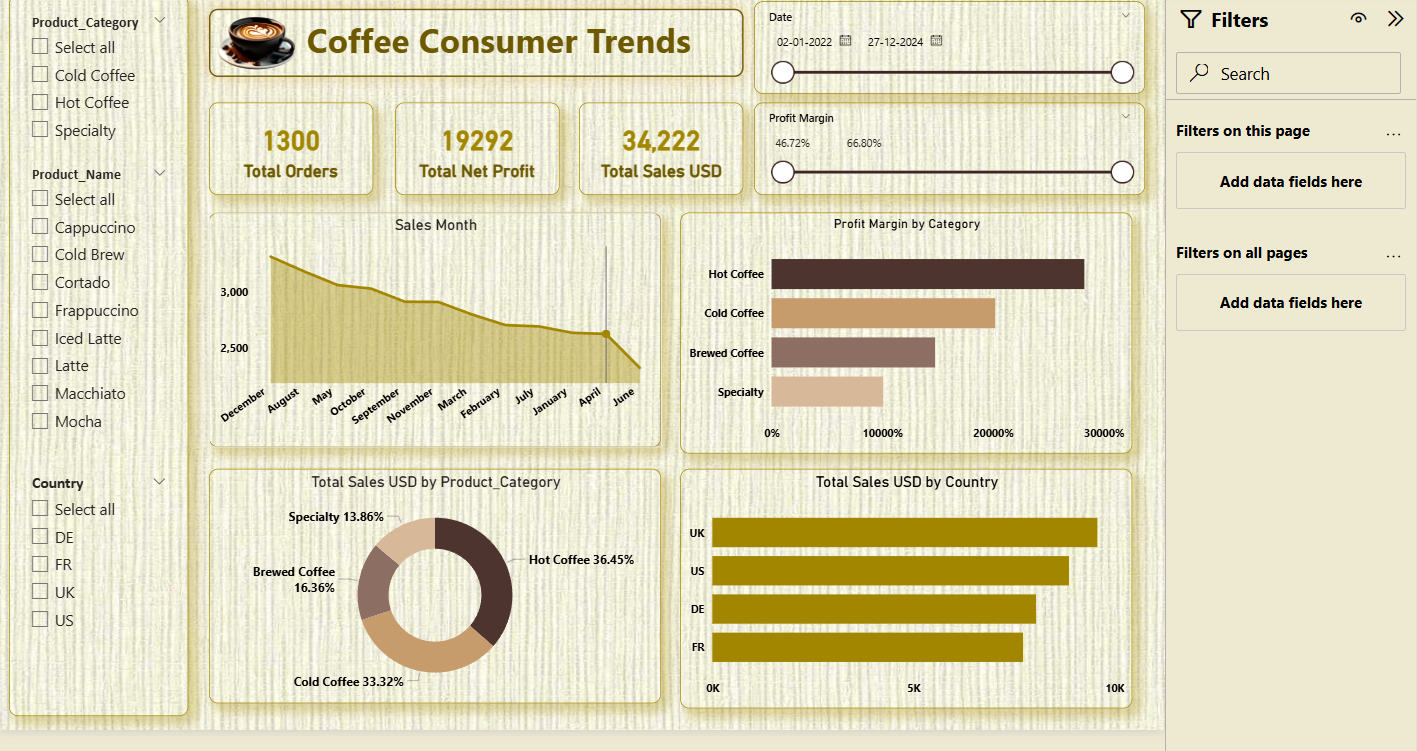

This screenshot's page, from the dashboard's own definition file:
{"tool":"powerbi","page":{"name":"Page 1","canvas":[1300,820],"ordinal":0},"visuals":[{"type":"image","box":[222.9,10,131.4,88.6],"z":0},{"type":"shape","box":[234.3,120,182.9,102.9],"z":1000},{"type":"textbox","box":[234.3,15.7,595.7,75.7],"z":2000},{"type":"card","fields":{"Values":["Coffee_Sales_US_UK_FR_DE.Total Sales USD"]},"box":[647.1,120,182.9,102.9],"z":3000},{"type":"card","fields":{"Values":["Coffee_Sales_US_UK_FR_DE.Total Orders"]},"box":[234.3,120,182.9,102.9],"z":4000},{"type":"card","fields":{"Values":["Coffee_Sales_US_UK_FR_DE.Total Net Profit"]},"box":[441.4,120,182.9,102.9],"z":5000},{"type":"shape","box":[441.4,120,182.9,102.9],"z":6000},{"type":"shape","box":[647.1,120,182.9,102.9],"z":7000},{"type":"stackedAreaChart","title":" Sales Month","fields":{"Category":["Coffee_Sales_US_UK_FR_DE.Month"],"Y":["Coffee_Sales_US_UK_FR_DE.Total Sales USD"]},"box":[234.3,242.9,504.3,261.4],"z":8000},{"type":"shape","box":[11.4,0,200,804.3],"z":9000},{"type":"clusteredBarChart","fields":{"Category":["Coffee_Sales_US_UK_FR_DE.Country"],"Y":["Coffee_Sales_US_UK_FR_DE.Total Sales USD"]},"box":[760,528.6,504.3,267.1],"z":10000},{"type":"donutChart","fields":{"Y":["Coffee_Sales_US_UK_FR_DE.Total Sales USD"],"Category":["Coffee_Sales_US_UK_FR_DE.Product_Category"]},"box":[234.3,528.6,504.3,261.4],"z":11000},{"type":"barChart","title":" Profit Margin by Category","fields":{"Y":["Sum(Coffee_Sales_US_UK_FR_DE.Profit Margin)"],"Category":["Coffee_Sales_US_UK_FR_DE.Product_Category"]},"box":[760,242.9,504.3,268.6],"z":12000},{"type":"slicer","fields":{"Values":["Coffee_Sales_US_UK_FR_DE.Date"]},"box":[841.4,7.1,435.7,102.9],"z":13000},{"type":"slicer","fields":{"Values":["Coffee_Sales_US_UK_FR_DE.Country"]},"box":[24.3,528.6,174.3,222.9],"z":14000},{"type":"slicer","fields":{"Values":["Coffee_Sales_US_UK_FR_DE.Product_Name"]},"box":[24.3,185.7,174.3,318.6],"z":15000},{"type":"slicer","fields":{"Values":["Coffee_Sales_US_UK_FR_DE.Profit Margin"]},"box":[841.4,120,435.7,102.9],"z":16000},{"type":"slicer","fields":{"Values":["Coffee_Sales_US_UK_FR_DE.Product_Category"]},"box":[24.3,15.7,174.3,155.7],"z":17000}]}

Visuals, with their boxes on the page's 1300x820 design canvas (x1, y1, x2, y2). These are canvas units, not pixel positions in the 1417x751 screenshot, which may show the page scaled, cropped or inside an application window:
image: box(223, 10, 354, 99)
shape: box(234, 120, 417, 223)
textbox: box(234, 16, 830, 91)
card - Coffee_Sales_US_UK_FR_DE.Total Sales USD: box(647, 120, 830, 223)
card - Coffee_Sales_US_UK_FR_DE.Total Orders: box(234, 120, 417, 223)
card - Coffee_Sales_US_UK_FR_DE.Total Net Profit: box(441, 120, 624, 223)
shape: box(441, 120, 624, 223)
shape: box(647, 120, 830, 223)
" Sales Month" stackedAreaChart: box(234, 243, 739, 504)
shape: box(11, 0, 211, 804)
clusteredBarChart - Coffee_Sales_US_UK_FR_DE.Country x Coffee_Sales_US_UK_FR_DE.Total Sales USD: box(760, 529, 1264, 796)
donutChart - Coffee_Sales_US_UK_FR_DE.Total Sales USD x Coffee_Sales_US_UK_FR_DE.Product_Category: box(234, 529, 739, 790)
" Profit Margin by Category" barChart: box(760, 243, 1264, 512)
slicer - Coffee_Sales_US_UK_FR_DE.Date: box(841, 7, 1277, 110)
slicer - Coffee_Sales_US_UK_FR_DE.Country: box(24, 529, 199, 752)
slicer - Coffee_Sales_US_UK_FR_DE.Product_Name: box(24, 186, 199, 504)
slicer - Coffee_Sales_US_UK_FR_DE.Profit Margin: box(841, 120, 1277, 223)
slicer - Coffee_Sales_US_UK_FR_DE.Product_Category: box(24, 16, 199, 171)
